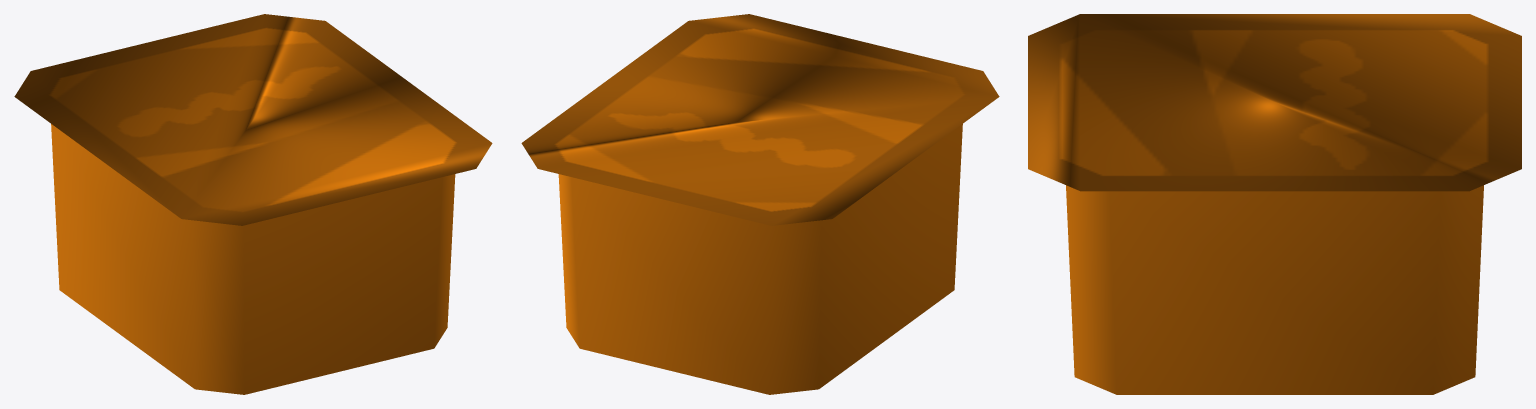
Rendered from SauceCapsule.fbx.
The picture shows the model from 3 angles, left to right: view 1: azimuth 30°, elevation 25°; view 2: azimuth 150°, elevation 25°; view 3: azimuth 270°, elevation 25°; orthographic projection. The views are drawn at different scales.
Parts seen in each view (by area): view 1: SauceCapsule; view 2: SauceCapsule; view 3: SauceCapsule.
Boxes of the visible parts, left/top/right/bottom form: SauceCapsule: left=14, top=14, right=492, bottom=394; SauceCapsule: left=521, top=14, right=999, bottom=394; SauceCapsule: left=1028, top=14, right=1521, bottom=394.
Size of the model in its own units: 5.57 by 3.23 by 6.56.
1 material, 1 textured.
